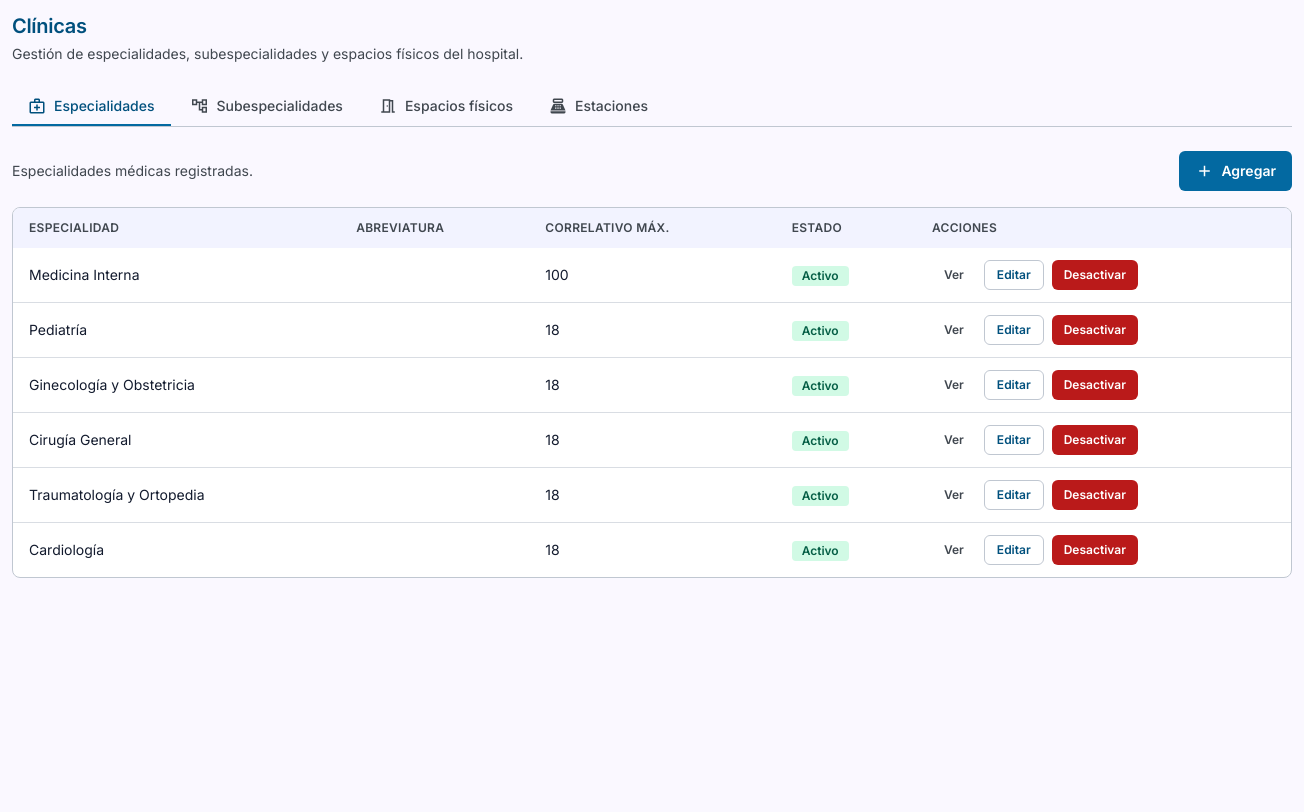
ClinicasPage › cambia entre pestañas y muestra la especialidad de cada subespecialidad
Step 1. Click the tab "Subespecialidades" → {"x": 267, "y": 107}, box [174, 88, 359, 126]
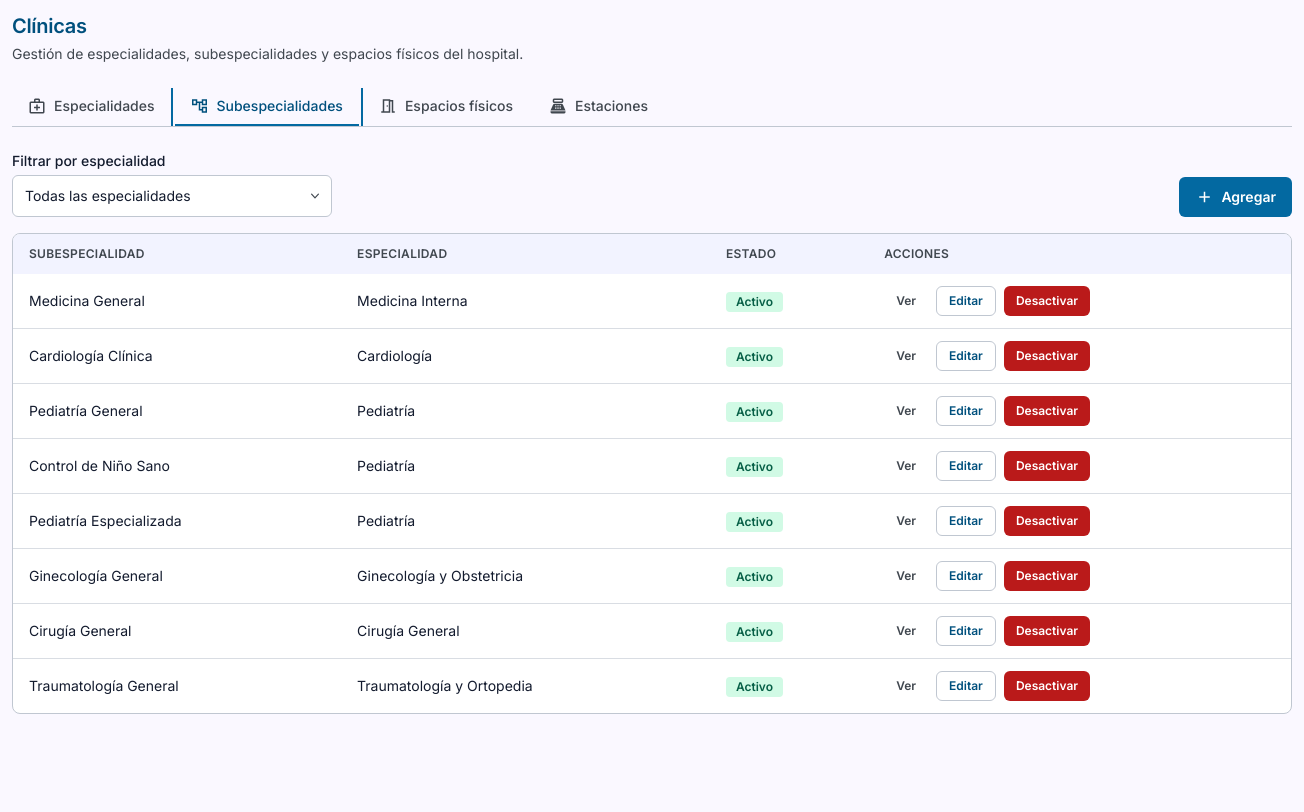
Expected: the text "Pediatría" in the row of "Pediatría General" is shown, [357, 402, 415, 419]
Expected: the text "Medicina General" is shown, [13, 274, 341, 328]
Expected: the text "Pediatría General" is shown, [13, 384, 341, 438]
Step 2. Click the tab "Espacios físicos" → {"x": 446, "y": 107}, box [363, 88, 529, 126]
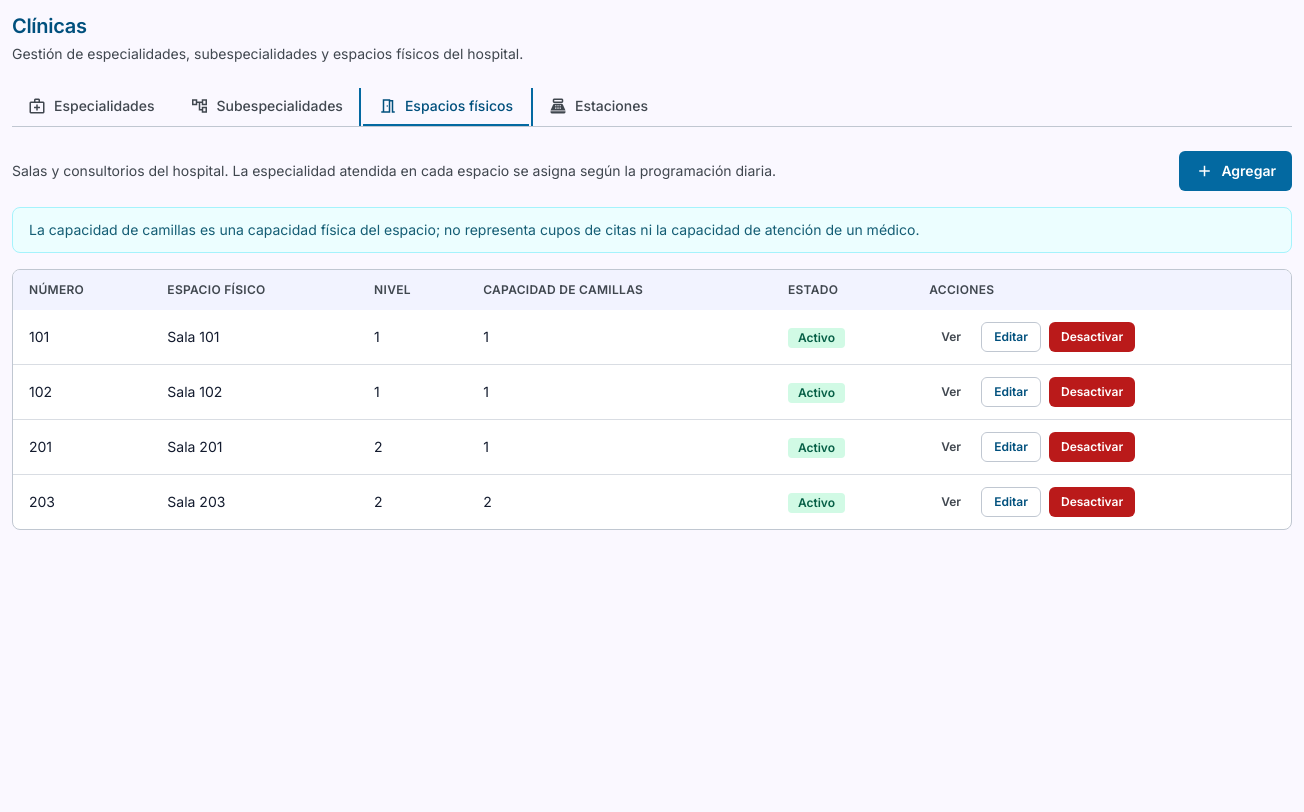
Expected: the text "Sala 101" is shown, [151, 310, 358, 364]
